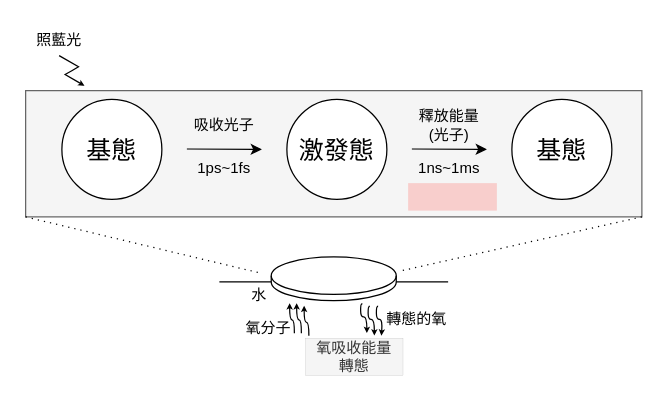
Image size: 665x396. Some labels were removed from this diagram. The shapes that lost their labels are listed below. From the top down, each one's centre as x and y in pixels, then its label:
At pixel 452 196: "螢光反應".
At pixel 333 278: "薄膜".
